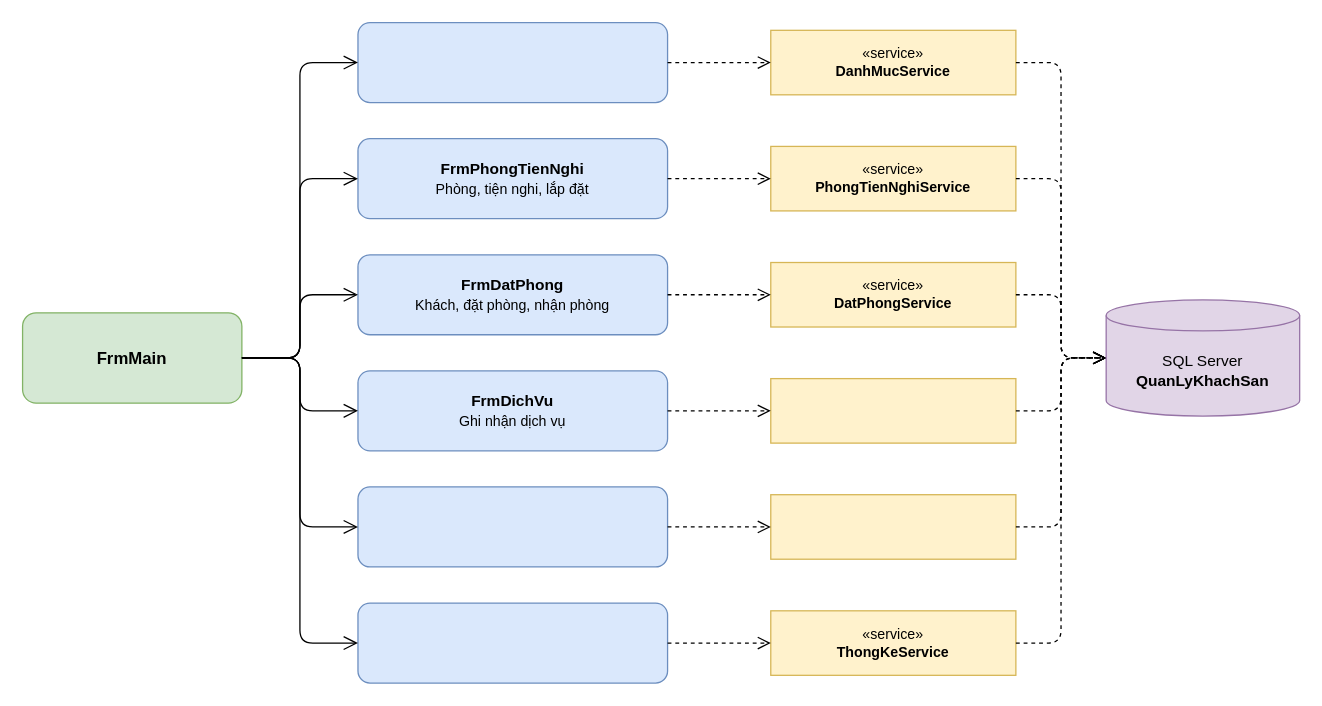
Image size: 1322x706. Some labels were removed from this diagram. The shapes that lost their labels are listed below. From the top down, each one's centre as x and y in pixels, then its label:
At (512,62): "FrmDanhMuc Khu vực, NV, loại TN, DV, quy định đền bù".
At (892,410): "«service» DichVuService".
At (512,526): "FrmTraPhong Đền bù, hóa đơn, thanh toán".
At (892,526): "«service» TraPhongService".
At (512,642): "FrmThongKe Thống kê".
